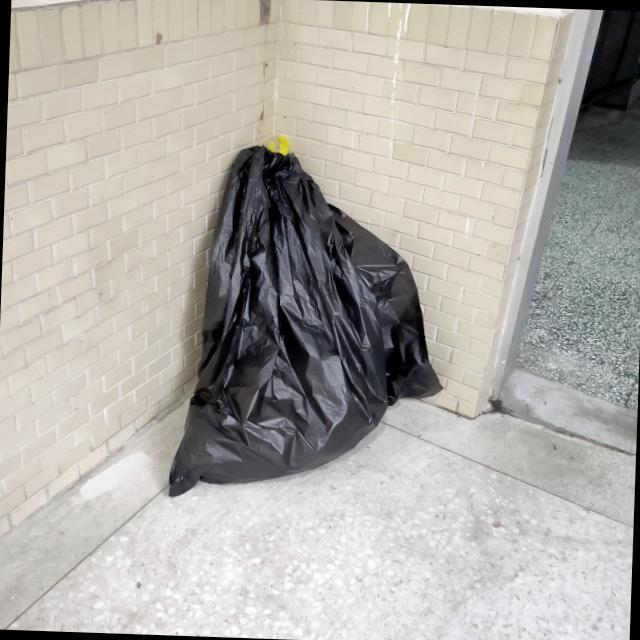garbage: (146, 112, 456, 514)
